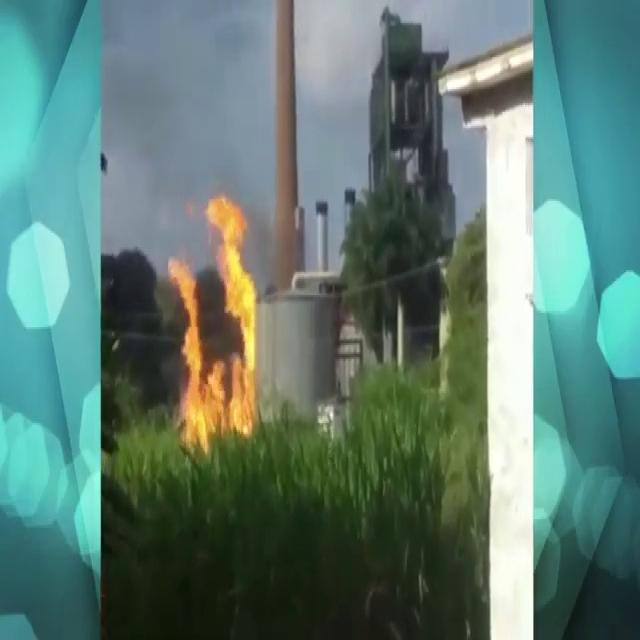Fire: (168, 199, 255, 436), (163, 258, 214, 453), (207, 356, 231, 428), (232, 354, 249, 426)
Smoke: (107, 14, 270, 300)
